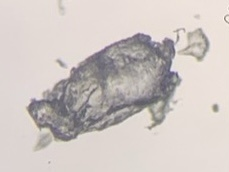microplastic: (26, 29, 210, 152)
